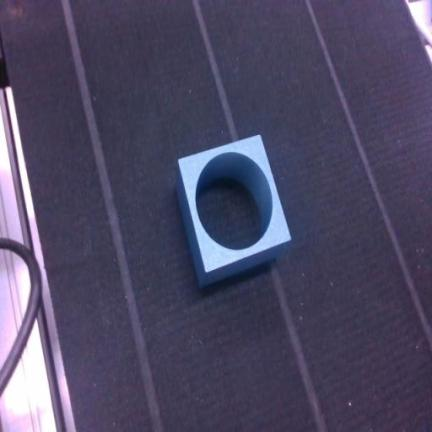square: (177, 136, 291, 286)
